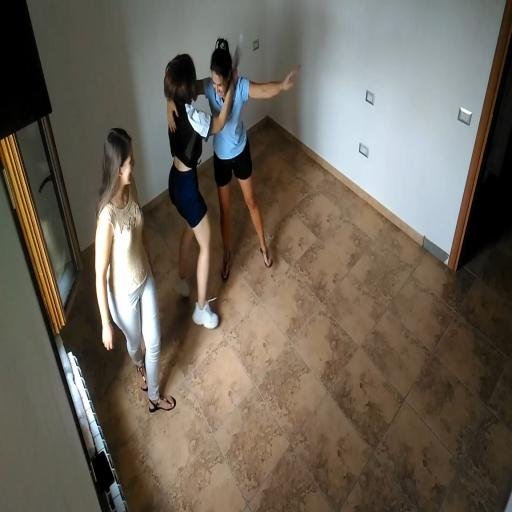nao-violencia: (150, 26, 310, 337)
